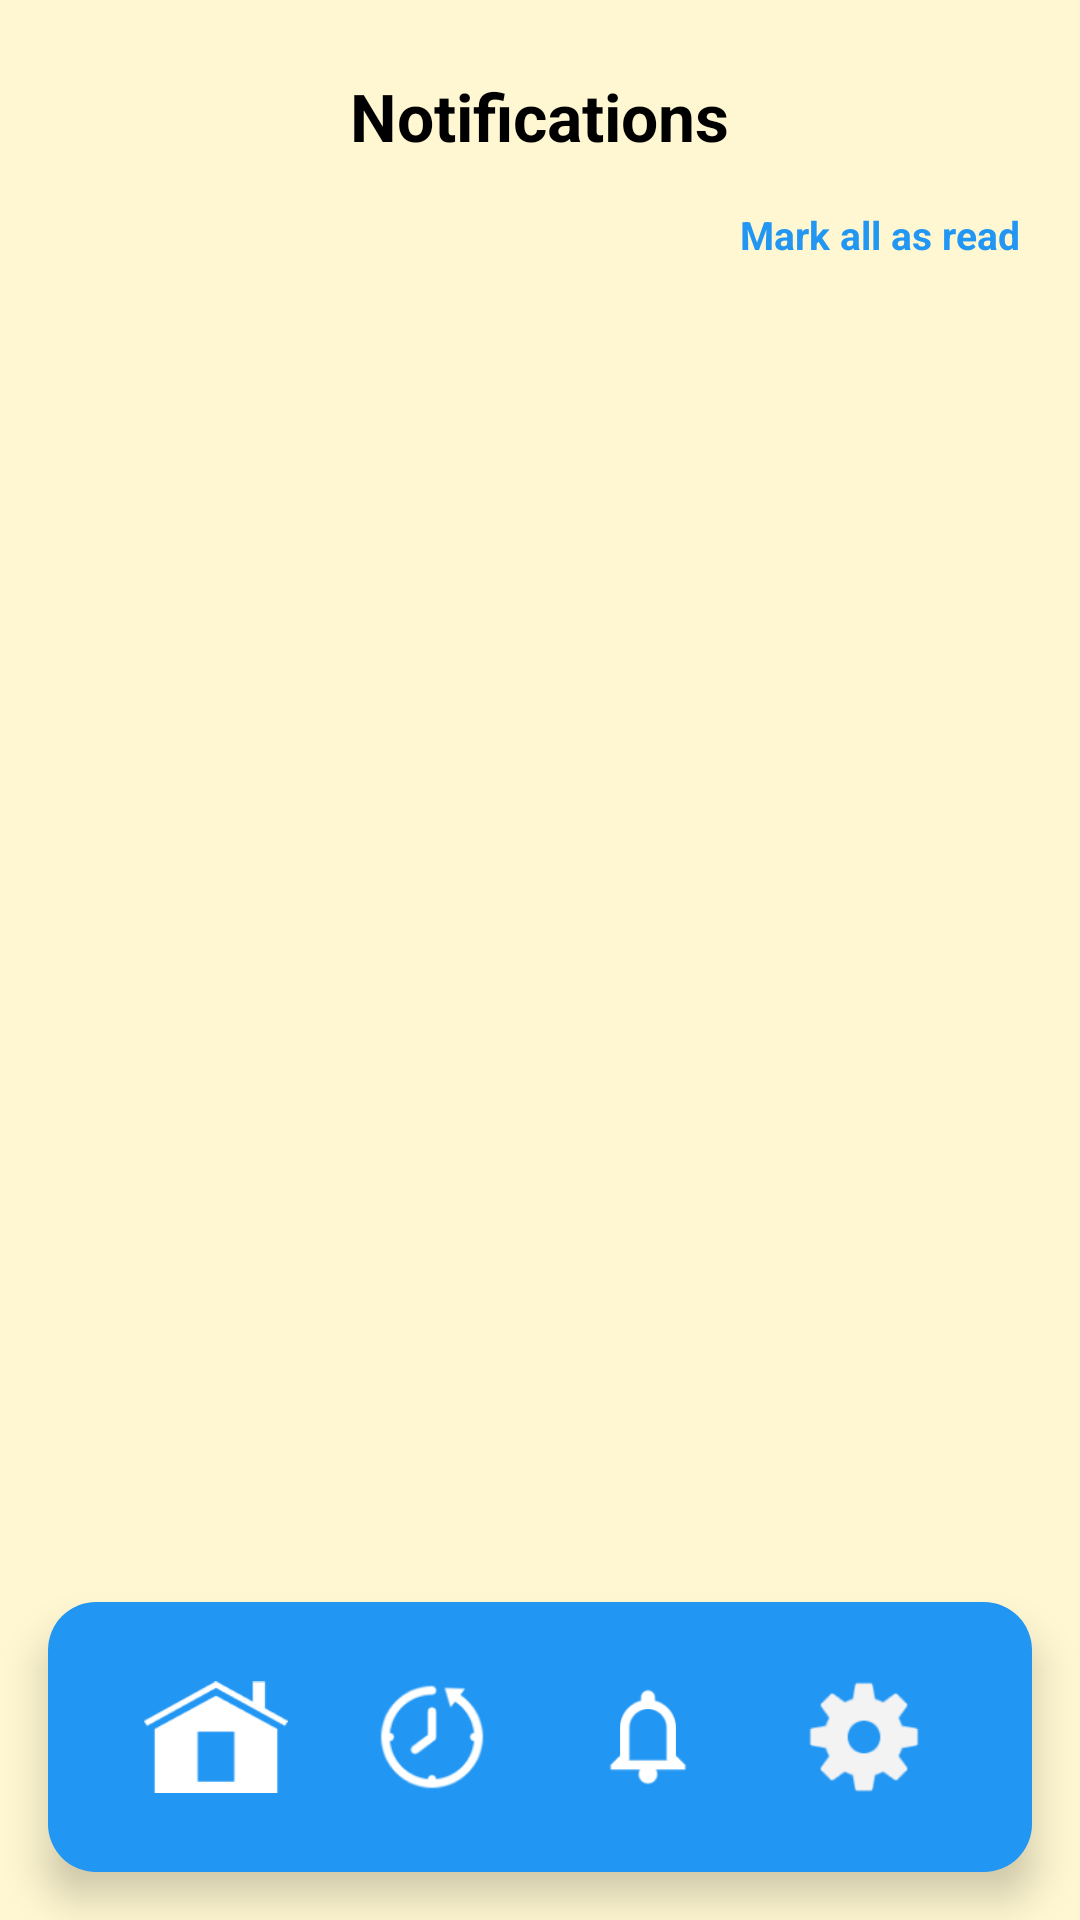

Named icons in this screenshot (1080 x 1920) and their centers, (x=x, y=y):
History: (x=432, y=1737)
Home: (x=216, y=1737)
Notifications: (x=648, y=1737)
Settings: (x=864, y=1737)
